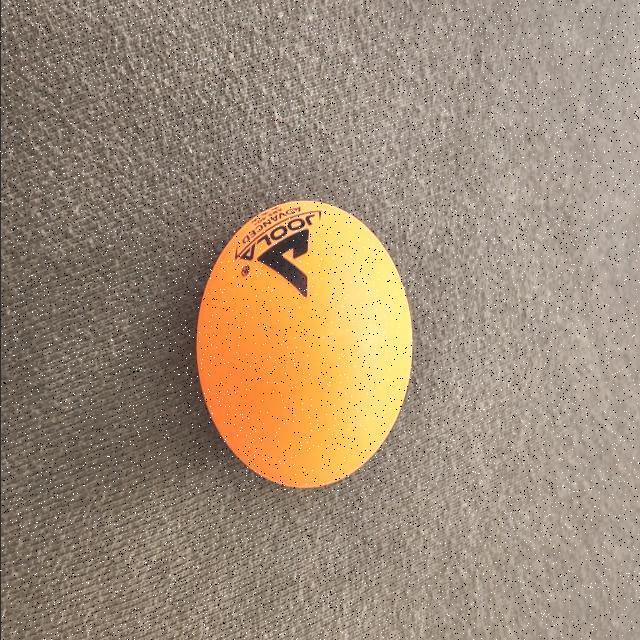ping-pong-ball: (186, 181, 421, 514)
